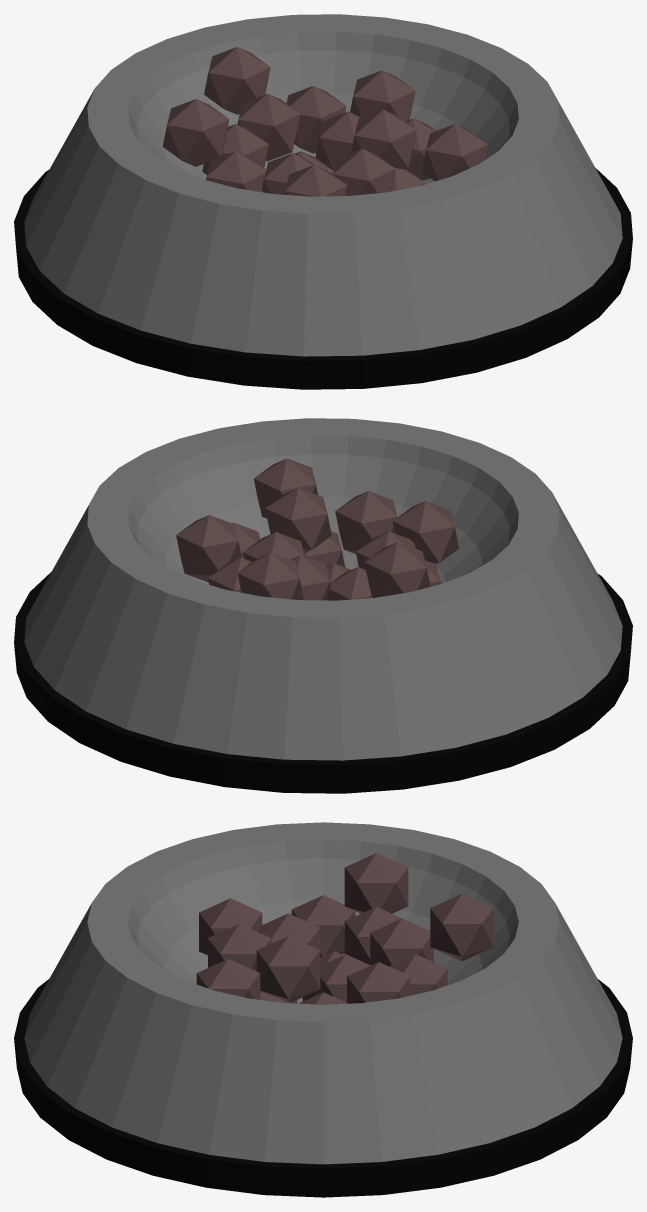
Rendered from CatFoodPlate.fbx.
3 views of the same model, one above another, from view 1: azimuth 30°, elevation 25°; view 2: azimuth 150°, elevation 25°; view 3: azimuth 270°, elevation 25° (orthographic).
Visible parts, largest first — view 1: CatFoodPlate; view 2: CatFoodPlate; view 3: CatFoodPlate.
Boxes of the visible parts, x1=… form: CatFoodPlate: x1=14, y1=14, x2=632, y2=389; CatFoodPlate: x1=14, y1=418, x2=632, y2=793; CatFoodPlate: x1=14, y1=822, x2=632, y2=1197.
Size of the model in its own units: 0.0828 by 0.0828 by 0.0245.
